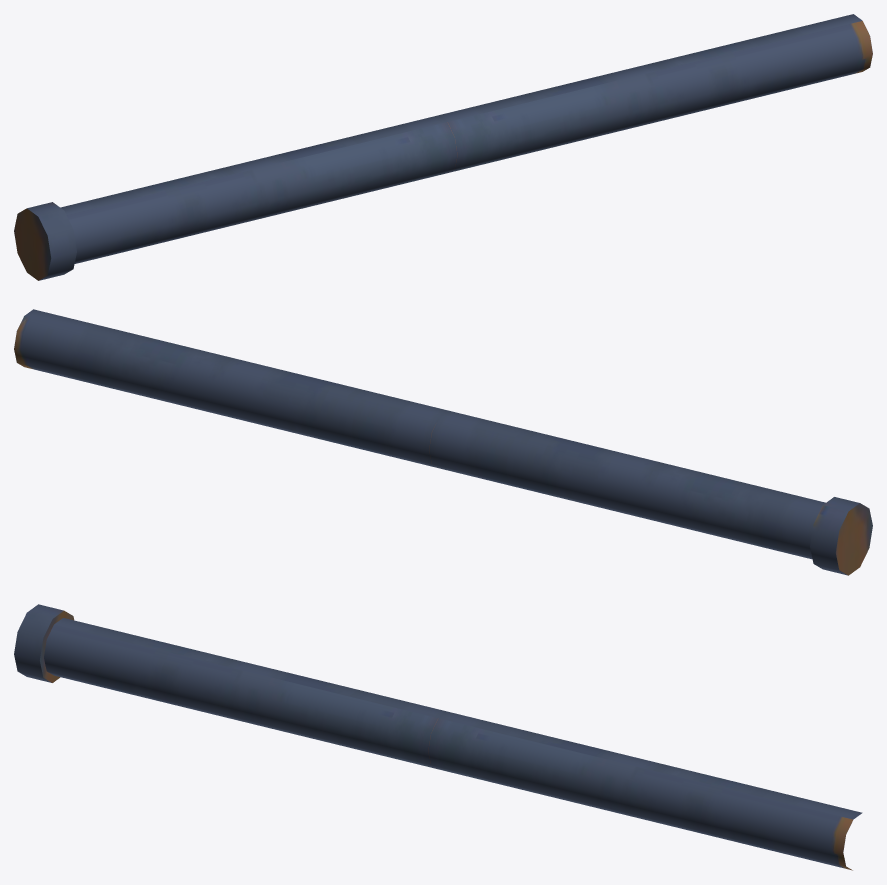
3 renders of one model, top to bottom at view 1: azimuth 30°, elevation 25°; view 2: azimuth 150°, elevation 25°; view 3: azimuth 330°, elevation 25°, orthographic.
Parts seen in each view (by area): view 1: body0_model0_lod0_mesh0; view 2: body0_model0_lod0_mesh0; view 3: body0_model0_lod0_mesh0.
Part boxes in pixels (x1,y1,x2,y2): body0_model0_lod0_mesh0: (14,14,872,280); body0_model0_lod0_mesh0: (14,309,872,575); body0_model0_lod0_mesh0: (14,604,862,870).
Size of the model in its own units: 128 by 9.52 by 10.
1 material, 1 textured.
